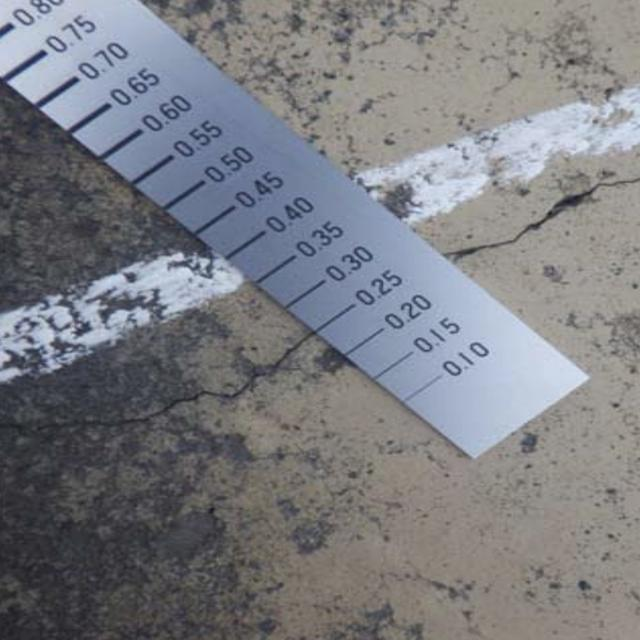crack: (7, 324, 310, 466), (434, 157, 636, 280)
